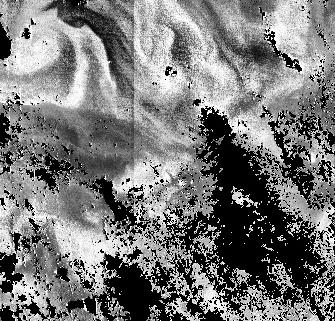CE: (11, 20, 76, 82)
